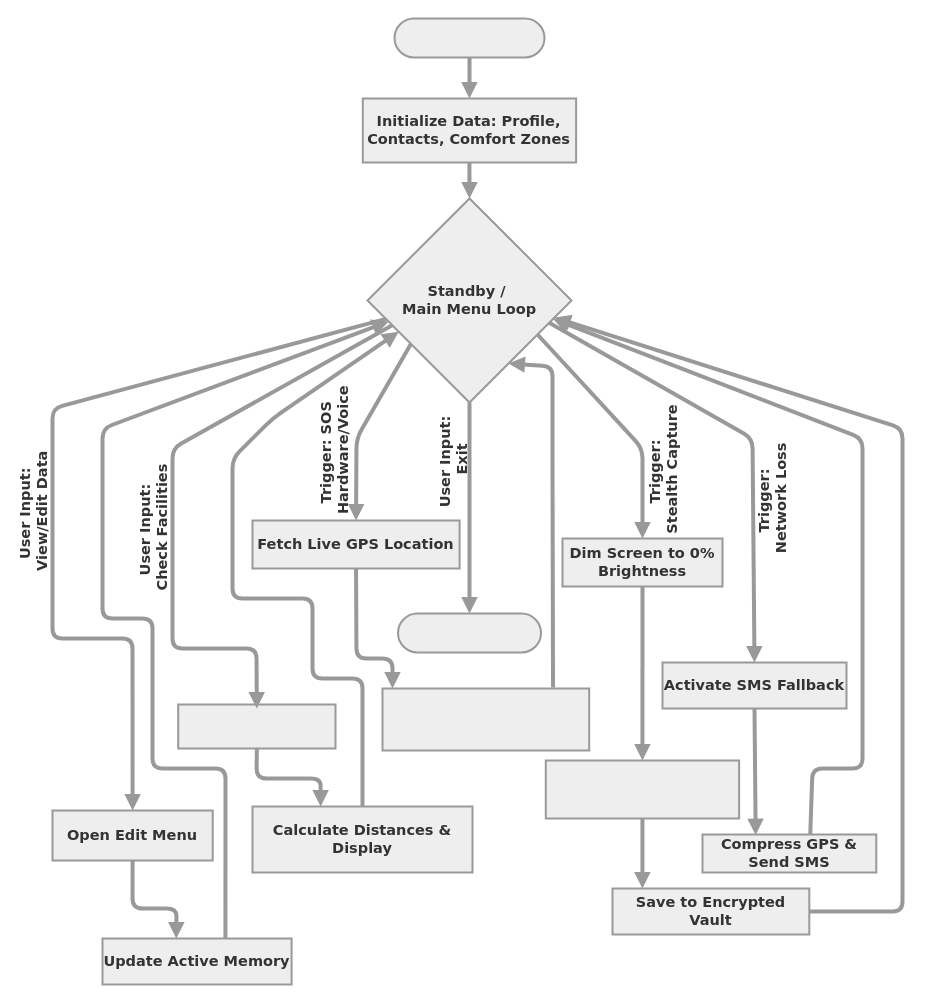
The diagram is 930 pixels wide and 1002 high, and some of its shapes have lost their labels. Each missing label, with the centre of its shape:
"Exit Application" goes at [469,632].
"Record Audio, Photos, and Video" goes at [642,789].
"Scan Live Location" goes at [256,726].
"Start Application" goes at [469,37].
"Transmit Alert to Contacts & 999" goes at [485,719].
